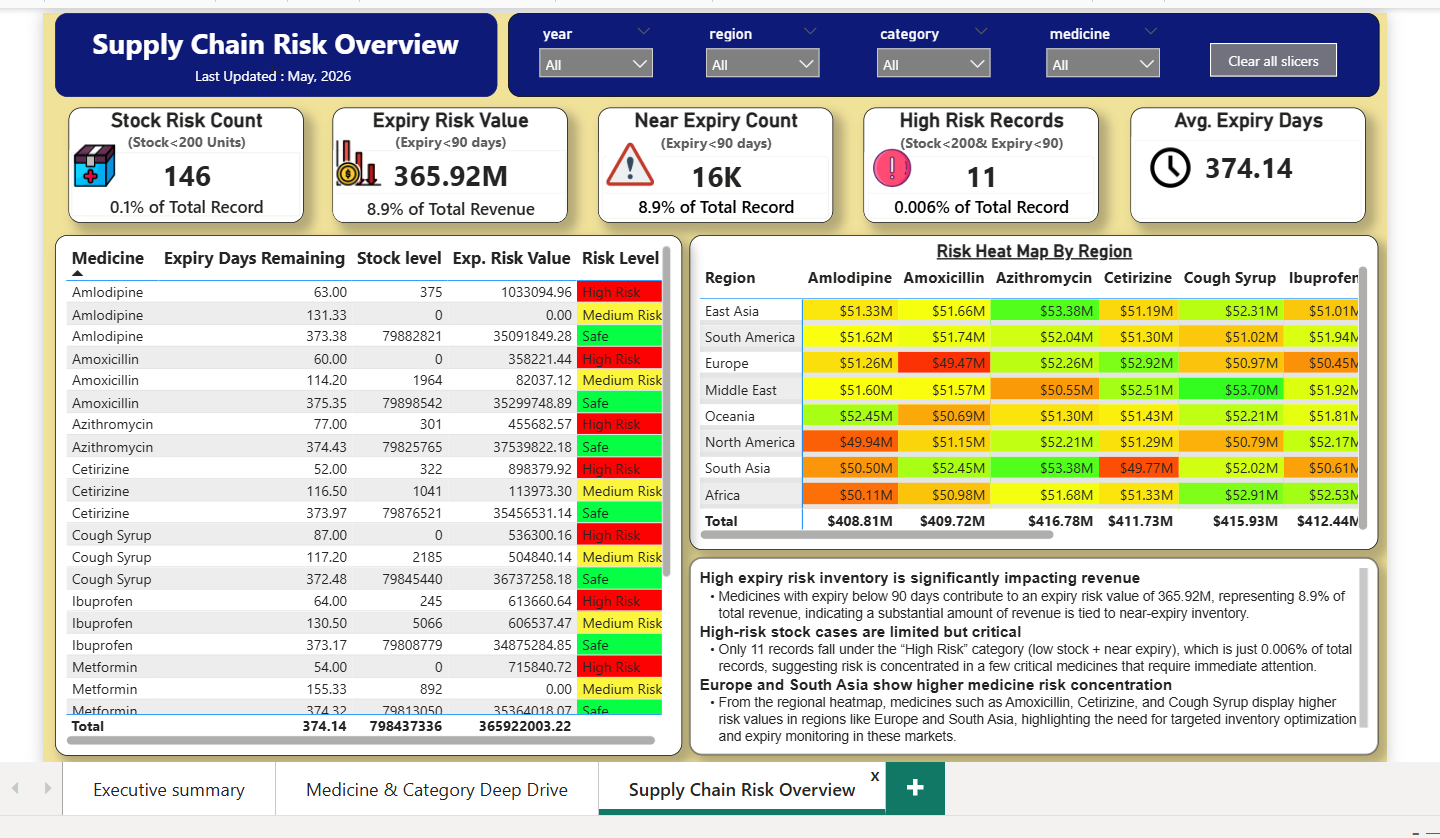

This screenshot's page, from the dashboard's own definition file:
{"tool":"powerbi","page":{"name":"Supply Chain Risk Overview","canvas":[1280,720],"ordinal":2},"visuals":[{"type":"textbox","box":[11,0,421,80],"z":0},{"type":"cardVisual","title":"Stock Risk Count","fields":{"Data":["global_pharmacy_sales.Stock Risk Count"]},"box":[24,90,224,110],"z":1000},{"type":"cardVisual","title":"Expiry Risk Value","fields":{"Data":["global_pharmacy_sales.Exp. Risk Value"]},"box":[275,90,224,110],"z":2000},{"type":"cardVisual","title":"High Risk Records","fields":{"Data":["global_pharmacy_sales.High Risk Records"]},"box":[782,90,224,110],"z":3000},{"type":"cardVisual","title":"Near Expiry Count","fields":{"Data":["global_pharmacy_sales.NearExpiryCount"]},"box":[528,90,224,110],"z":4000},{"type":"cardVisual","title":"Avg. Expiry Days","fields":{"Data":["Avg(global_pharmacy_sales.expiry_days_remaining)"]},"box":[1036,90,224,110],"z":5000},{"type":"textbox","box":[443,0,830,80],"z":6000},{"type":"slicer","fields":{"Values":["global_pharmacy_sales.year"]},"box":[463,5.2,128,64],"z":7000},{"type":"slicer","fields":{"Values":["global_pharmacy_sales.region"]},"box":[621,5.2,128,64],"z":8000},{"type":"slicer","fields":{"Values":["global_pharmacy_sales.category"]},"box":[784,5.2,128,64],"z":9000},{"type":"slicer","fields":{"Values":["global_pharmacy_sales.medicine"]},"box":[946,5.2,128,64],"z":10000},{"type":"pivotTable","title":"Risk Heat Map By Region","fields":{"Values":["Sum(global_pharmacy_sales.Revenue)"],"Columns":["global_pharmacy_sales.medicine"],"Rows":["global_pharmacy_sales.region"]},"box":[615,212,656,300],"z":11000},{"type":"image","box":[8,121,80,48],"z":12000},{"type":"image","box":[273,117,56,51],"z":13000},{"type":"image","box":[785,129,46,38],"z":14000},{"type":"image","box":[528,121,61,45],"z":15000},{"type":"textbox","box":[67,45,304,32],"z":16000},{"type":"actionButton","box":[1112,29,121,32],"z":17000},{"type":"image","box":[1041,124,64,46],"z":18000},{"type":"tableEx","fields":{"Values":["global_pharmacy_sales.medicine","Avg(global_pharmacy_sales.expiry_days_remaining)","Sum(global_pharmacy_sales.stock_level)","global_pharmacy_sales.Exp. Risk Value","global_pharmacy_sales.Risk Level"]},"box":[11,212,597,496],"z":19000},{"type":"textbox","box":[615,519,656,188],"z":20000}]}

Visuals, with their boxes on the page's 1280x720 design canvas (x1, y1, x2, y2). These are canvas units, not pixel positions in the 1440x838 screenshot, which may show the page scaled, cropped or inside an application window:
textbox: pyautogui.locateOnScreen(11, 0, 432, 80)
"Stock Risk Count" cardVisual: pyautogui.locateOnScreen(24, 90, 248, 200)
"Expiry Risk Value" cardVisual: pyautogui.locateOnScreen(275, 90, 499, 200)
"High Risk Records" cardVisual: pyautogui.locateOnScreen(782, 90, 1006, 200)
"Near Expiry Count" cardVisual: pyautogui.locateOnScreen(528, 90, 752, 200)
"Avg. Expiry Days" cardVisual: pyautogui.locateOnScreen(1036, 90, 1260, 200)
textbox: pyautogui.locateOnScreen(443, 0, 1273, 80)
slicer - global_pharmacy_sales.year: pyautogui.locateOnScreen(463, 5, 591, 69)
slicer - global_pharmacy_sales.region: pyautogui.locateOnScreen(621, 5, 749, 69)
slicer - global_pharmacy_sales.category: pyautogui.locateOnScreen(784, 5, 912, 69)
slicer - global_pharmacy_sales.medicine: pyautogui.locateOnScreen(946, 5, 1074, 69)
"Risk Heat Map By Region" pivotTable: pyautogui.locateOnScreen(615, 212, 1271, 512)
image: pyautogui.locateOnScreen(8, 121, 88, 169)
image: pyautogui.locateOnScreen(273, 117, 329, 168)
image: pyautogui.locateOnScreen(785, 129, 831, 167)
image: pyautogui.locateOnScreen(528, 121, 589, 166)
textbox: pyautogui.locateOnScreen(67, 45, 371, 77)
actionButton: pyautogui.locateOnScreen(1112, 29, 1233, 61)
image: pyautogui.locateOnScreen(1041, 124, 1105, 170)
tableEx - global_pharmacy_sales.medicine x Avg(global_pharmacy_sales.expiry_days_remaining): pyautogui.locateOnScreen(11, 212, 608, 708)
textbox: pyautogui.locateOnScreen(615, 519, 1271, 707)
